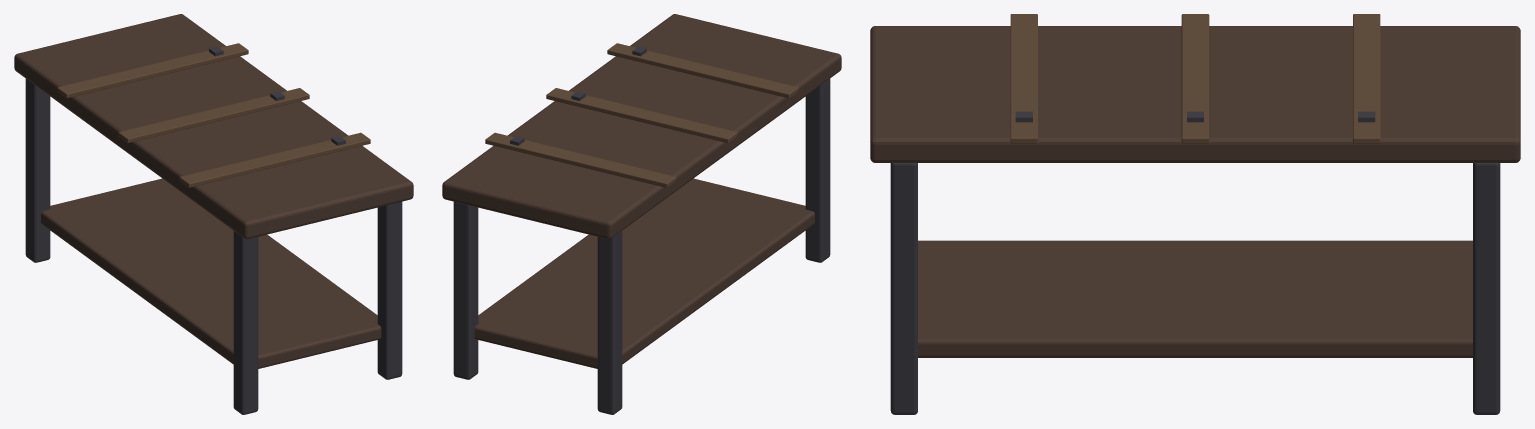
Rendered from operating_table_strapped.glb.
The picture shows the model from 3 angles, left to right: view 1: azimuth 30°, elevation 25°; view 2: azimuth 150°, elevation 25°; view 3: azimuth 270°, elevation 25°; orthographic projection. The views are drawn at different scales.
Parts seen in each view (by area): view 1: GD_operating_table_strapped__m0, GD_operating_table_strapped__m1, GD_operating_table_strapped__m2; view 2: GD_operating_table_strapped__m0, GD_operating_table_strapped__m1, GD_operating_table_strapped__m2; view 3: GD_operating_table_strapped__m0, GD_operating_table_strapped__m1, GD_operating_table_strapped__m2.
Boxes of the visible parts, x1=… form: GD_operating_table_strapped__m0: x1=14, y1=14, x2=413, y2=368; GD_operating_table_strapped__m1: x1=25, y1=46, x2=402, y2=414; GD_operating_table_strapped__m2: x1=57, y1=43, x2=370, y2=187; GD_operating_table_strapped__m0: x1=442, y1=14, x2=841, y2=368; GD_operating_table_strapped__m1: x1=453, y1=46, x2=830, y2=414; GD_operating_table_strapped__m2: x1=485, y1=43, x2=798, y2=187; GD_operating_table_strapped__m0: x1=870, y1=26, x2=1520, y2=357; GD_operating_table_strapped__m1: x1=890, y1=111, x2=1500, y2=414; GD_operating_table_strapped__m2: x1=1010, y1=14, x2=1380, y2=143.
Bounding box in the file's own units: 0.86 × 0.935 × 1.9.
